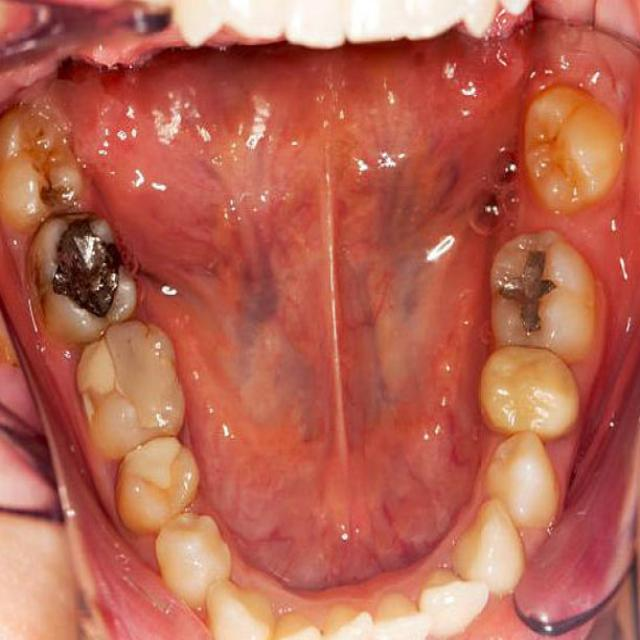caries: (54, 225, 128, 331), (490, 238, 558, 339), (32, 170, 74, 218)
